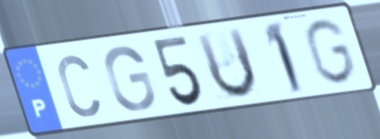1: (262, 20, 306, 95)
5: (150, 33, 205, 108)
C: (55, 52, 103, 120)
G: (302, 16, 359, 87), (102, 44, 158, 113)
U: (193, 26, 260, 103)
